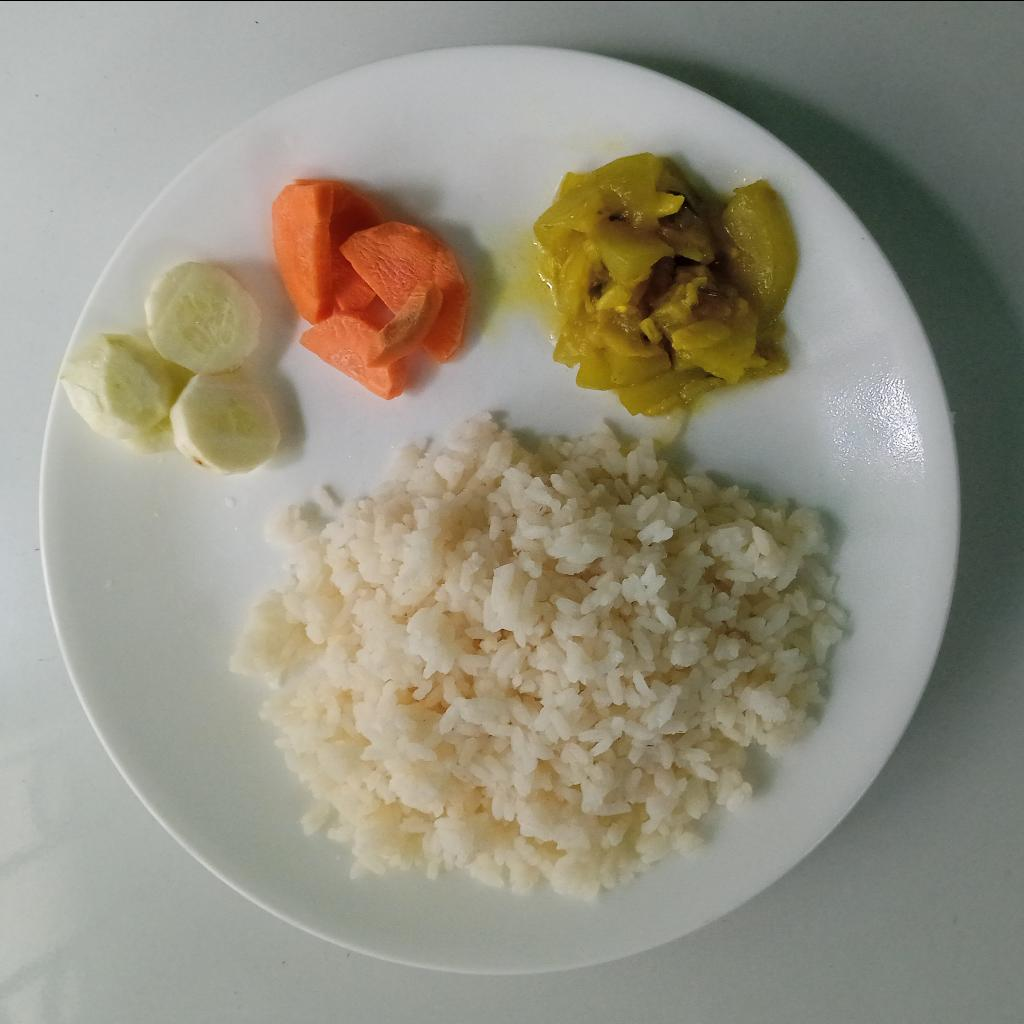carrot: (269, 173, 472, 399)
cucumber: (54, 260, 285, 473)
lau: (532, 151, 797, 418)
rice: (224, 408, 852, 906)
